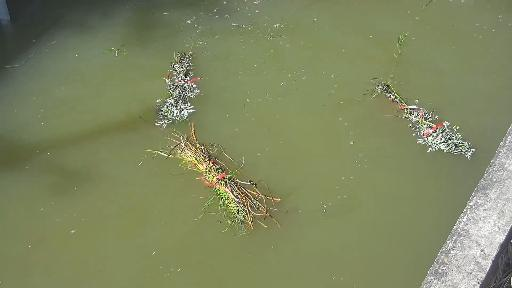leaf: (96, 44, 130, 60)
twig: (371, 29, 483, 165), (156, 117, 275, 231), (149, 37, 204, 125)
